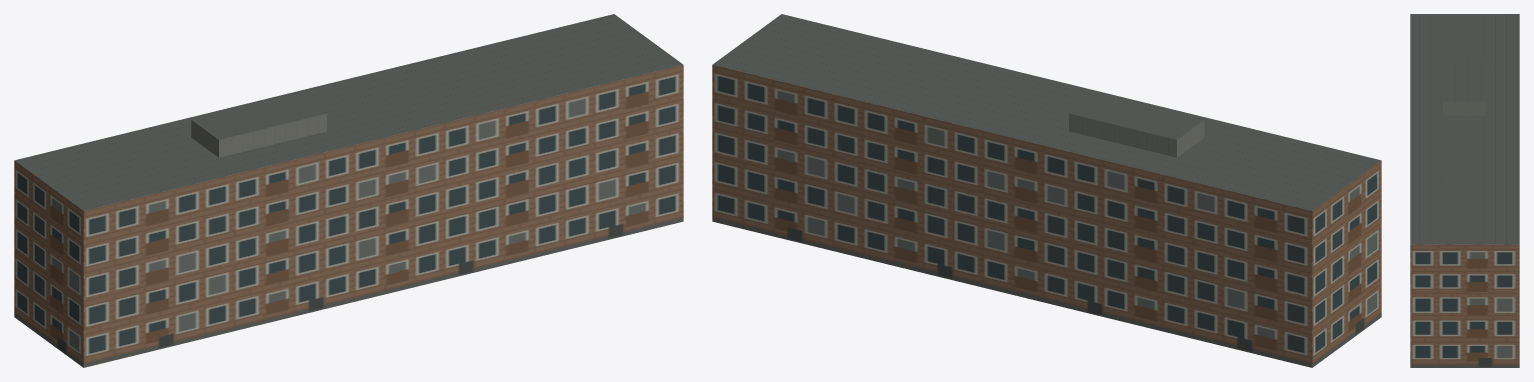
File: kyiv_khrushchyovka_02.obj
The picture shows the model from 3 angles, left to right: view 1: azimuth 30°, elevation 25°; view 2: azimuth 150°, elevation 25°; view 3: azimuth 270°, elevation 25°; orthographic projection. The views are drawn at different scales.
Parts seen in each view (by area): view 1: kyiv_khrushchyovka_02; view 2: kyiv_khrushchyovka_02; view 3: kyiv_khrushchyovka_02.
Boxes of the visible parts, box(x1,y1,x2,y2) form: kyiv_khrushchyovka_02: box(14, 14, 683, 367); kyiv_khrushchyovka_02: box(712, 14, 1381, 367); kyiv_khrushchyovka_02: box(1410, 14, 1519, 367).
Size of the model in its own units: 60 by 16.7 by 12.
Materials: 1 (1 with a texture image).
